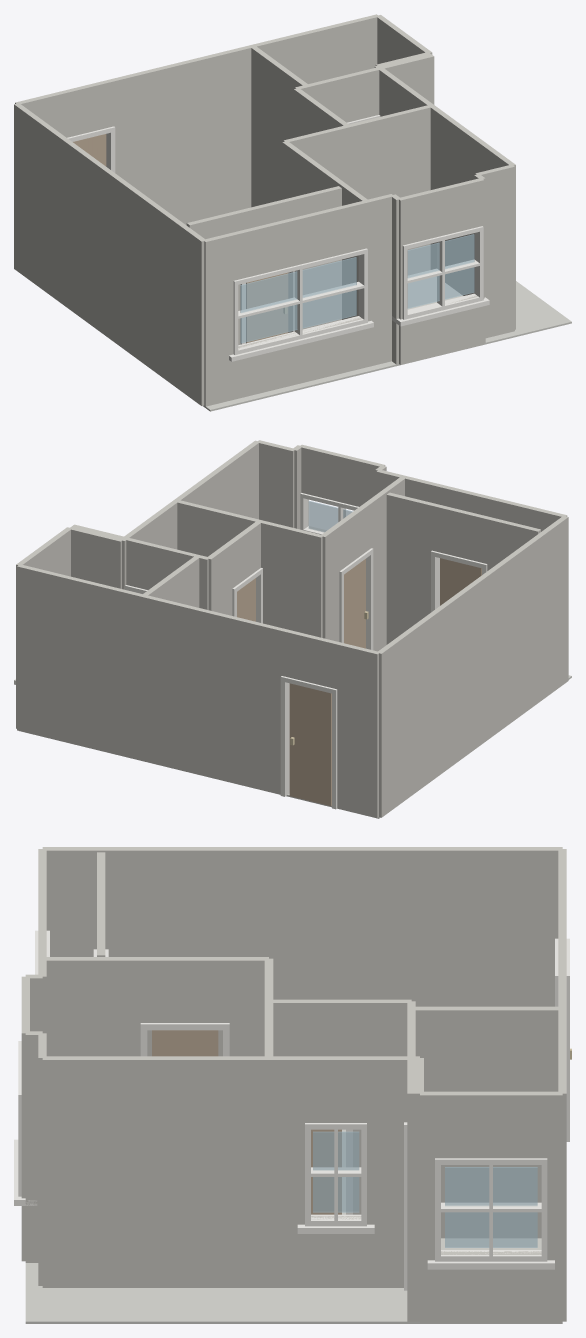
The model's file is whitebox.glb.
3 renders of one model, top to bottom at view 1: azimuth 30°, elevation 25°; view 2: azimuth 150°, elevation 25°; view 3: azimuth 270°, elevation 25°, orthographic. The views are drawn at different scales.
Visible parts, largest first — view 1: wall_010, wall_001_block_03_01, wall_001_block_03_02, wall_015, wall_009_block_02_03, window_balcony_glass, wall_018, wall_009_block_02_01, wall_005, floor, wall_007_block_02_03, window_bay_glass (+41 smaller); view 2: wall_010, wall_001_block_03_01, wall_001_block_03_02, wall_013, door_entry_panel, wall_001_block_01_01, wall_004_block_03_03, wall_011_block_03_01, wall_007_block_02_03, wall_005, wall_015, wall_009_block_02_03 (+27 smaller); view 3: wall_010, wall_004_block_03_02, wall_004_block_03_03, wall_018, wall_004_block_03_01, floor, wall_002_block_02_03, wall_012_block_03_02, window_kitchen_glass, wall_002_block_02_01, wall_012_block_02_02, wall_014_block_02_02 (+41 smaller).
Part boxes in pixels (x1,y1,x2,y2): wall_010: (14,103,205,405); wall_001_block_03_01: (115,67,374,225); wall_001_block_03_02: (111,14,379,130); wall_015: (347,105,430,275); wall_009_block_02_03: (231,201,366,280); window_balcony_glass: (240,257,356,343); wall_018: (251,46,307,207); wall_009_block_02_01: (233,317,366,399); wall_005: (475,165,514,338); floor: (203,276,571,411); wall_007_block_02_03: (400,178,482,245); window_bay_glass: (407,234,474,308); wall_010: (378,516,568,817); wall_001_block_03_01: (17,615,280,794); wall_001_block_03_02: (17,564,284,679); wall_013: (260,520,323,637); door_entry_panel: (289,683,331,805); wall_001_block_01_01: (337,694,378,818); wall_004_block_03_03: (161,440,259,549); wall_011_block_03_01: (386,544,430,644); wall_007_block_02_03: (301,445,382,506); wall_005: (258,440,295,527); wall_015: (175,500,260,556); wall_009_block_02_03: (404,476,539,528); wall_010: (42,847,562,1056); wall_004_block_03_02: (42,1128,304,1219); wall_004_block_03_03: (42,1056,304,1128); wall_018: (415,1006,561,1238); wall_004_block_03_01: (42,1219,304,1287); floor: (25,1129,562,1323); wall_002_block_02_03: (435,1091,547,1158); wall_012_block_03_02: (42,957,140,1028); window_kitchen_glass: (445,1167,537,1247); wall_002_block_02_01: (435,1251,547,1323); wall_012_block_02_02: (140,957,229,1022); wall_014_block_02_02: (272,999,352,1056).
Bounding box in the file's own units: 7.09 × 3.03 × 6.65.
